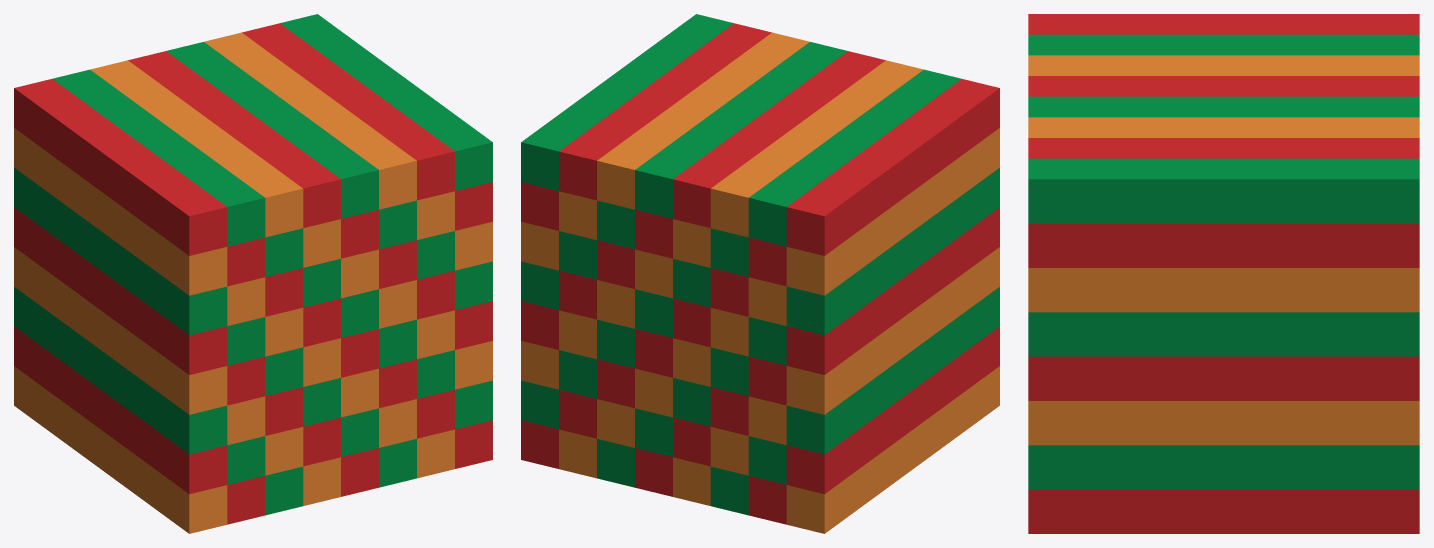
Rendered from breaking_bad.gltf.
The picture shows the model from 3 angles, left to right: view 1: azimuth 30°, elevation 25°; view 2: azimuth 150°, elevation 25°; view 3: azimuth 270°, elevation 25°; orthographic projection. The views are drawn at different scales.
Parts seen in each view (by area): view 1: SmallCube..004, SmallCube..041, SmallCube..017, SmallCube..025, SmallCube..049, SmallCube..057, SmallCube..001, SmallCube..033, SmallCube..010, SmallCube..011, SmallCube..015, SmallCube..014 (+157 smaller); view 2: SmallCube..457, SmallCube..489, SmallCube..465, SmallCube..473, SmallCube..497, SmallCube..505, SmallCube..449, SmallCube..481, SmallCube..458, SmallCube..459, SmallCube..463, SmallCube..462 (+157 smaller); view 3: SmallCube..016, SmallCube..080, SmallCube..400, SmallCube..464, SmallCube..144, SmallCube..208, SmallCube..272, SmallCube..336, SmallCube..040, SmallCube..064, SmallCube..104, SmallCube..128 (+108 smaller).
Boxes of the visible parts, x1,y1,x2,y2 form: SmallCube..004: (167,191,227,255); SmallCube..041: (167,399,227,454); SmallCube..017: (167,280,227,335); SmallCube..025: (167,359,227,414); SmallCube..049: (167,478,227,533); SmallCube..057: (167,438,227,494); SmallCube..001: (167,240,227,295); SmallCube..033: (167,319,227,374); SmallCube..010: (206,182,265,246); SmallCube..011: (243,172,303,237); SmallCube..015: (395,135,454,200); SmallCube..014: (357,145,416,209); SmallCube..457: (786,191,846,255); SmallCube..489: (786,399,846,454); SmallCube..465: (786,280,846,335); SmallCube..473: (786,359,846,414); SmallCube..497: (786,478,846,533); SmallCube..505: (786,438,846,494); SmallCube..449: (786,240,846,295); SmallCube..481: (786,319,846,374); SmallCube..458: (748,182,807,246); SmallCube..459: (710,172,770,237); SmallCube..463: (559,135,618,200); SmallCube..462: (597,145,656,209); SmallCube..016: (1028,158,1077,223); SmallCube..080: (1077,158,1126,223); SmallCube..400: (1321,158,1370,223); SmallCube..464: (1370,158,1419,223); SmallCube..144: (1126,158,1174,223); SmallCube..208: (1175,158,1223,223); SmallCube..272: (1224,158,1272,223); SmallCube..336: (1273,158,1321,223); SmallCube..040: (1028,312,1077,356); SmallCube..064: (1028,445,1077,489); SmallCube..104: (1077,312,1126,356); SmallCube..128: (1077,445,1126,489).
Bounding box in the file's own units: 2 × 2 × 2.
